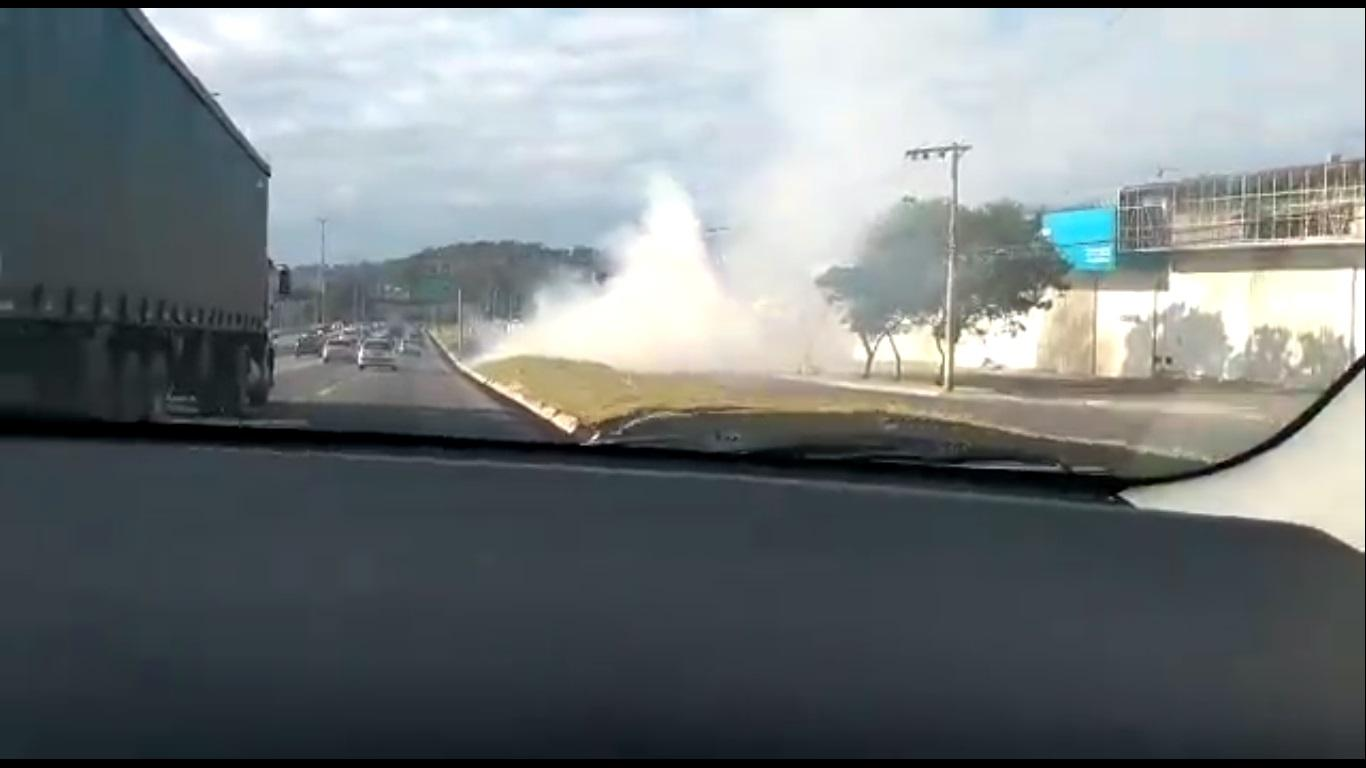smoke: (570, 240, 844, 370)
